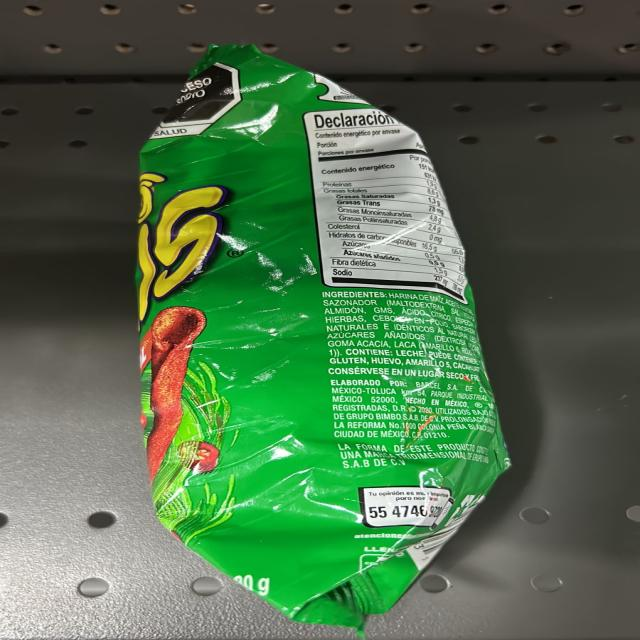takisOriginal: (129, 92, 349, 558)
